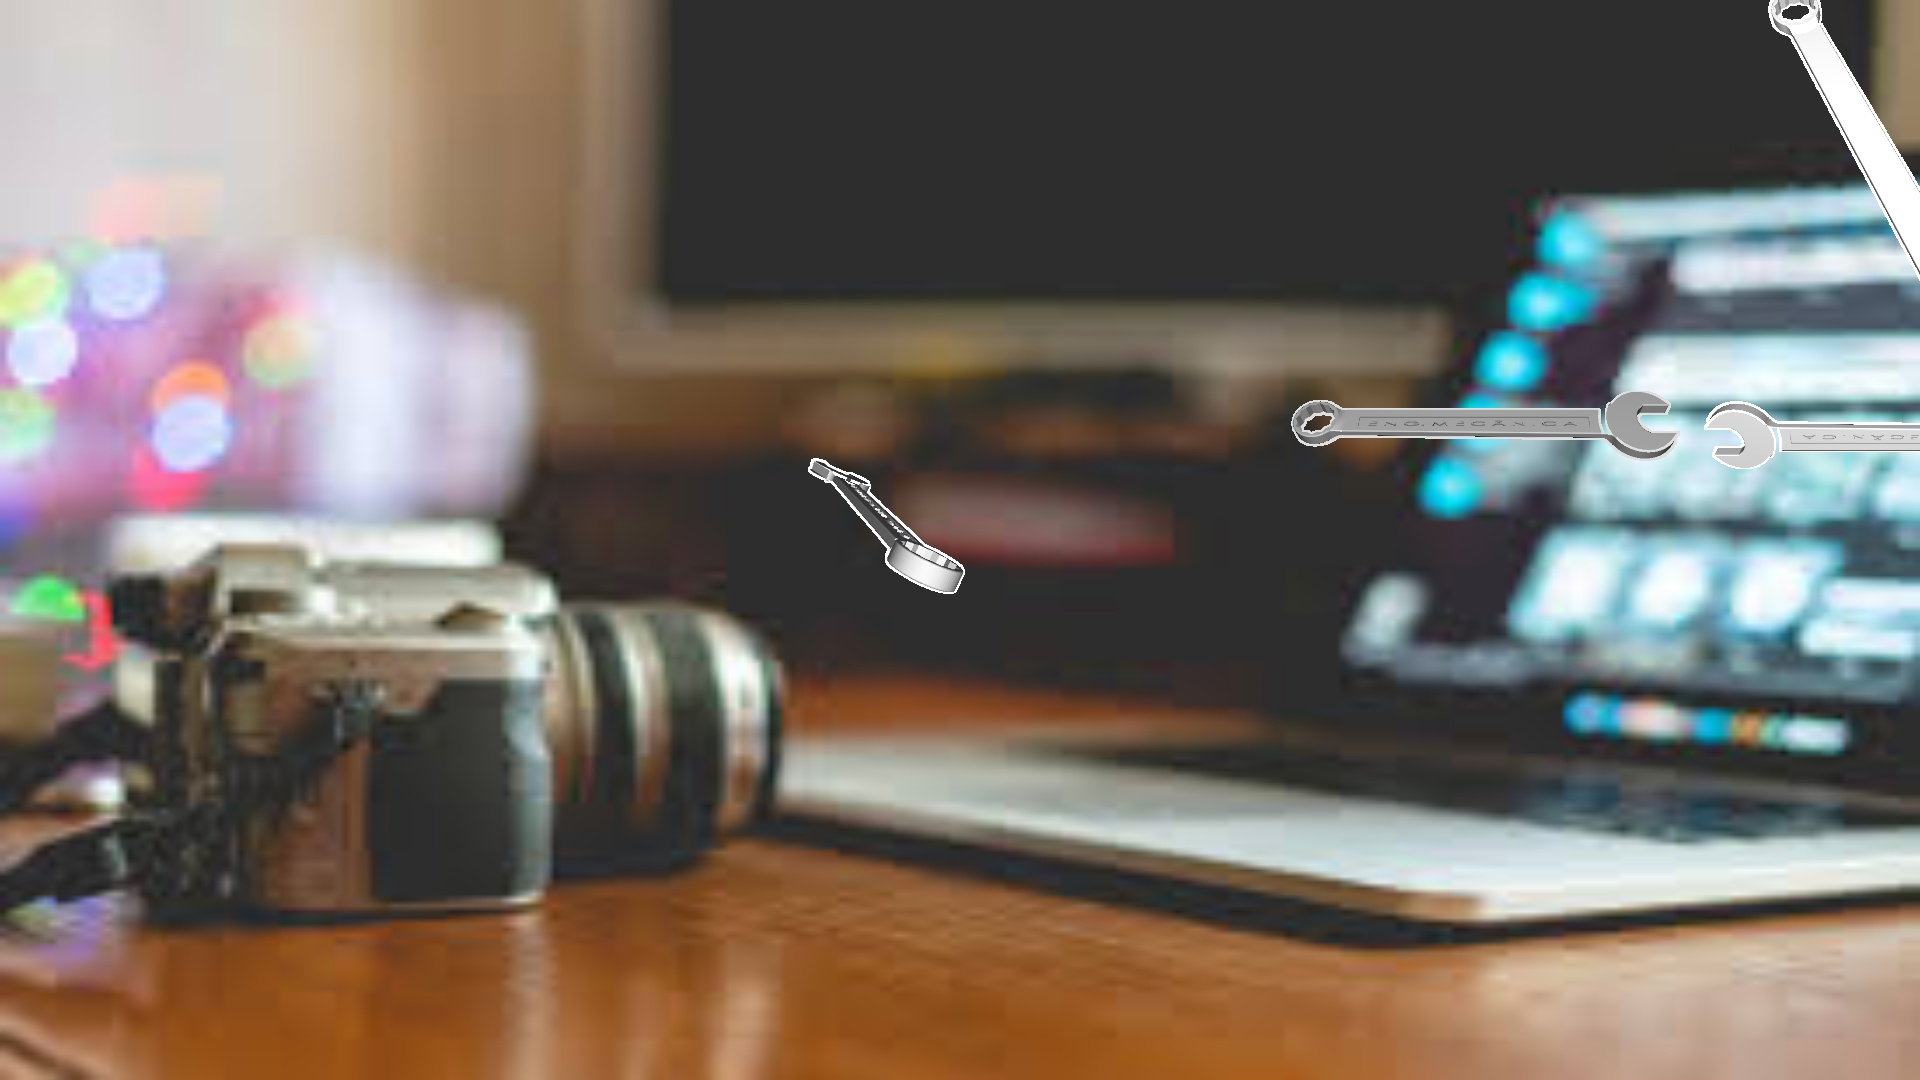Mixed Key: (1768, 0, 1919, 280), (1291, 392, 1679, 460), (808, 458, 964, 593), (1704, 401, 1919, 468)
